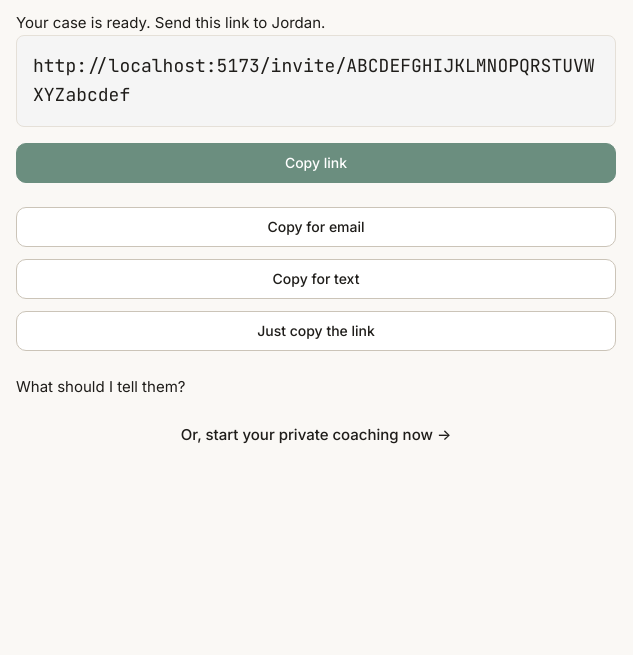
Test: AC: Expandable suggested language section › clicking expands to show suggested language
This screenshot has width=633, height=655.
Click the button "What should I tell them?" at (101, 387), box [16,375,186,399]
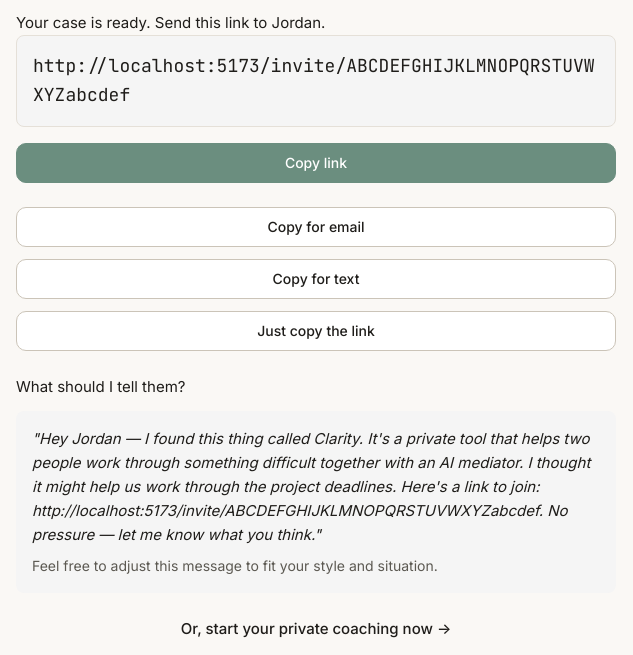
Result: the text "I found this thing called Clarity" is shown at [32,429,590,544]
